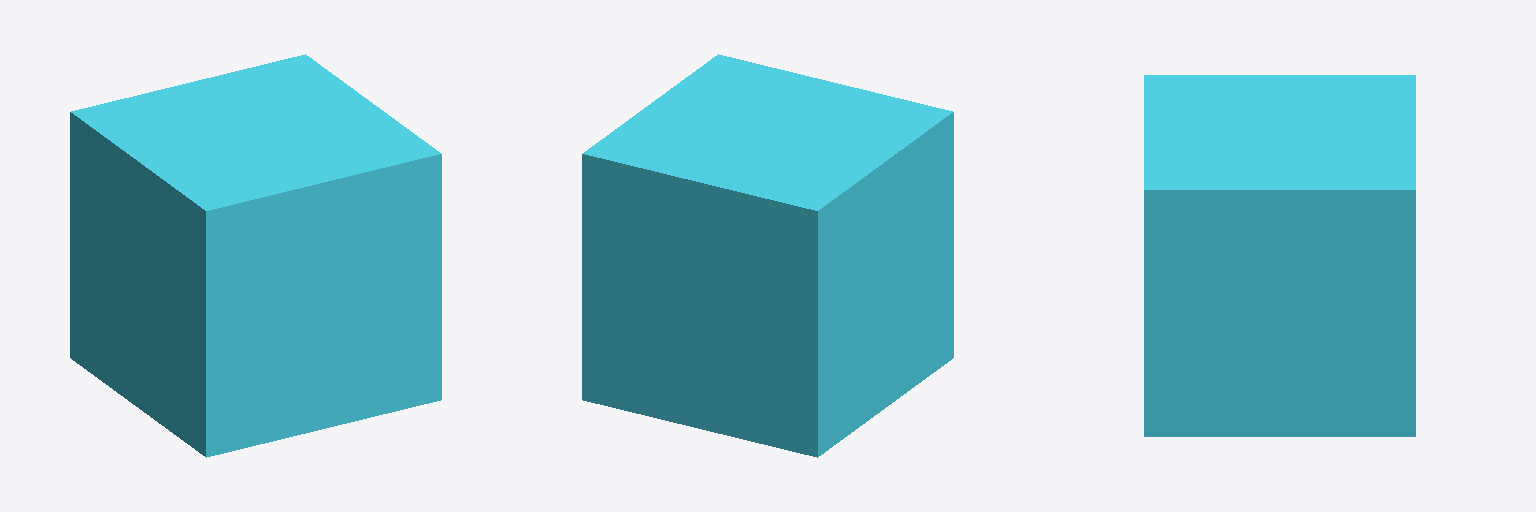
3 views of the same model, side by side, from view 1: azimuth 30°, elevation 25°; view 2: azimuth 150°, elevation 25°; view 3: azimuth 270°, elevation 25° (orthographic).
Visible parts, largest first — view 1: pCube1 group1; view 2: pCube1 group1; view 3: pCube1 group1.
Boxes of the visible parts, x1,y1,x2,y2 form: pCube1 group1: [70, 54, 441, 457]; pCube1 group1: [582, 54, 953, 457]; pCube1 group1: [1144, 75, 1415, 436].
Bounding box in the file's own units: 0.5 × 0.5 × 0.5.
1 materials, 1 textured.